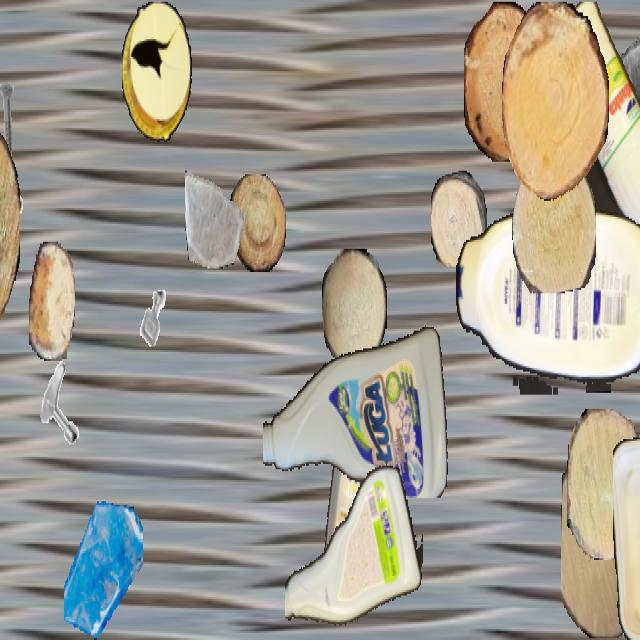glass: (64, 500, 142, 638), (185, 164, 243, 266), (616, 2, 640, 130)
metal: (34, 356, 88, 452), (0, 176, 33, 286), (132, 279, 176, 357), (0, 80, 31, 165), (626, 439, 640, 546)
plastic: (263, 313, 451, 498), (456, 210, 640, 394), (548, 1, 640, 282), (285, 457, 423, 638), (319, 386, 385, 602), (122, 2, 192, 140), (613, 436, 640, 638)
wood: (502, 2, 608, 201), (561, 439, 640, 638), (464, 2, 546, 162), (512, 150, 596, 292), (567, 409, 640, 558), (322, 249, 386, 363), (29, 242, 75, 359), (229, 174, 285, 270), (431, 170, 487, 266), (0, 110, 20, 345)
